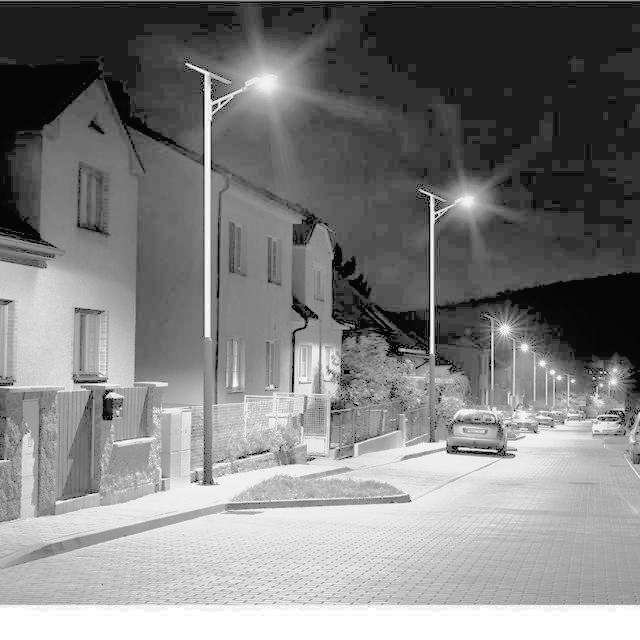Car: (447, 406, 512, 461)
Light: (237, 63, 291, 104), (447, 177, 489, 219)
